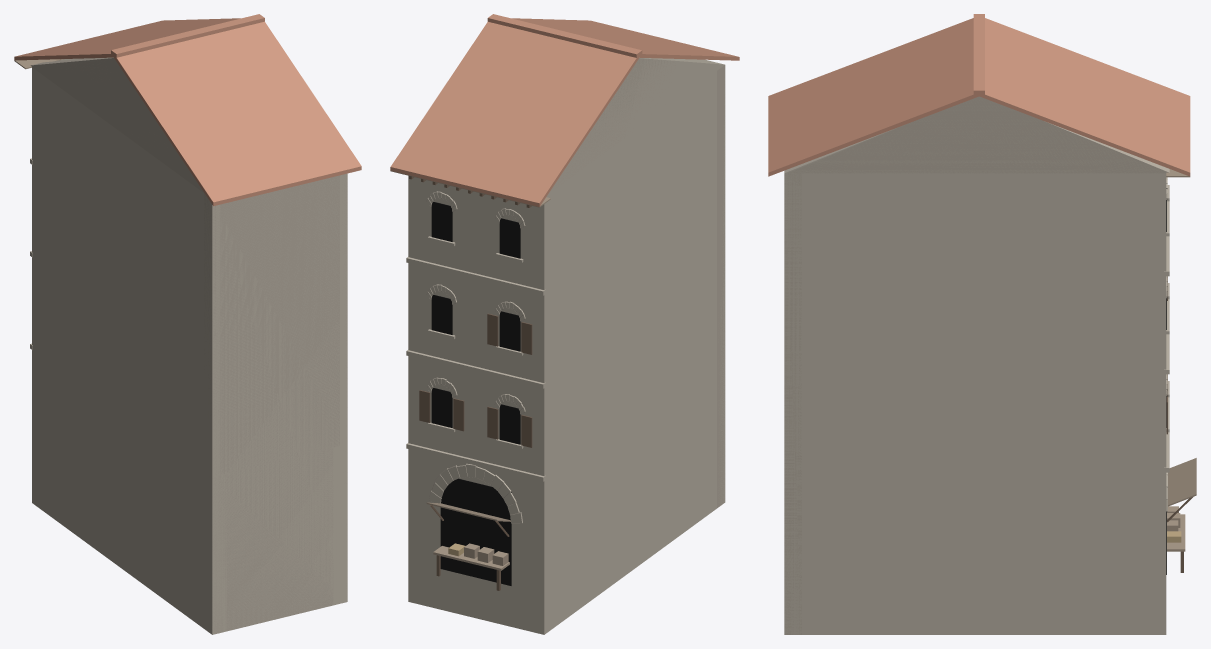
The model's file is casa-52-3-pietra.glb.
3 views of the same model, side by side, from view 1: azimuth 30°, elevation 25°; view 2: azimuth 150°, elevation 25°; view 3: azimuth 270°, elevation 25° (orthographic). The views are drawn at different scales.
Parts seen in each view (by area): view 1: vicino, lontano; view 2: lontano, vicino, aperta; view 3: vicino, lontano, aperta.
Boxes of the visible parts, x1,y1,x2,y2 form: vicino: [14, 14, 361, 634]; lontano: [14, 54, 360, 634]; lontano: [390, 54, 739, 634]; vicino: [390, 14, 739, 634]; aperta: [426, 502, 510, 590]; vicino: [768, 14, 1190, 634]; lontano: [768, 93, 1190, 634]; aperta: [1167, 458, 1196, 572].
Size of the model in its own units: 5.7 by 18.98 by 13.45.
